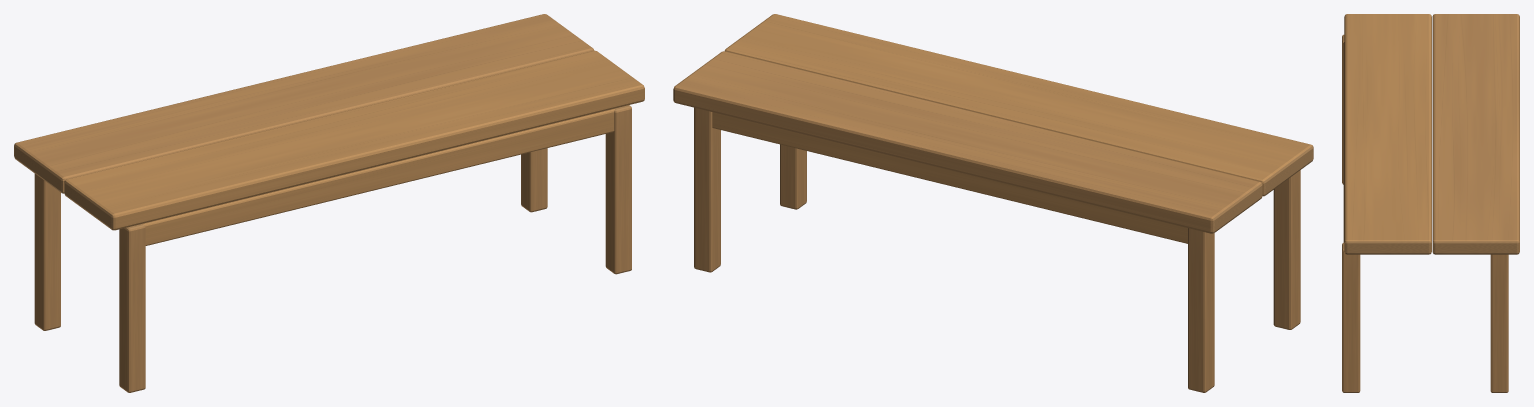
Rendered from tiered-riser.glb.
The picture shows the model from 3 angles, left to right: view 1: azimuth 30°, elevation 25°; view 2: azimuth 150°, elevation 25°; view 3: azimuth 270°, elevation 25°; orthographic projection. The views are drawn at different scales.
Parts seen in each view (by area): view 1: paper-foundation-v1/tiered-riser; view 2: paper-foundation-v1/tiered-riser; view 3: paper-foundation-v1/tiered-riser.
Part boxes in pixels (x1,y1,x2,y2): paper-foundation-v1/tiered-riser: [14, 14, 644, 392]; paper-foundation-v1/tiered-riser: [673, 14, 1313, 392]; paper-foundation-v1/tiered-riser: [1342, 14, 1519, 392].
Size of the model in its own units: 0.8 by 0.26 by 0.2635.
3 materials, 3 textured.
